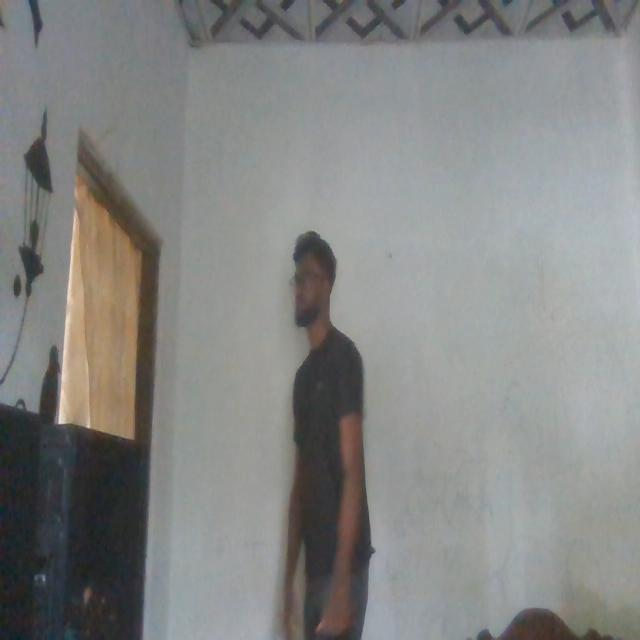Person: (281, 222, 375, 636)
